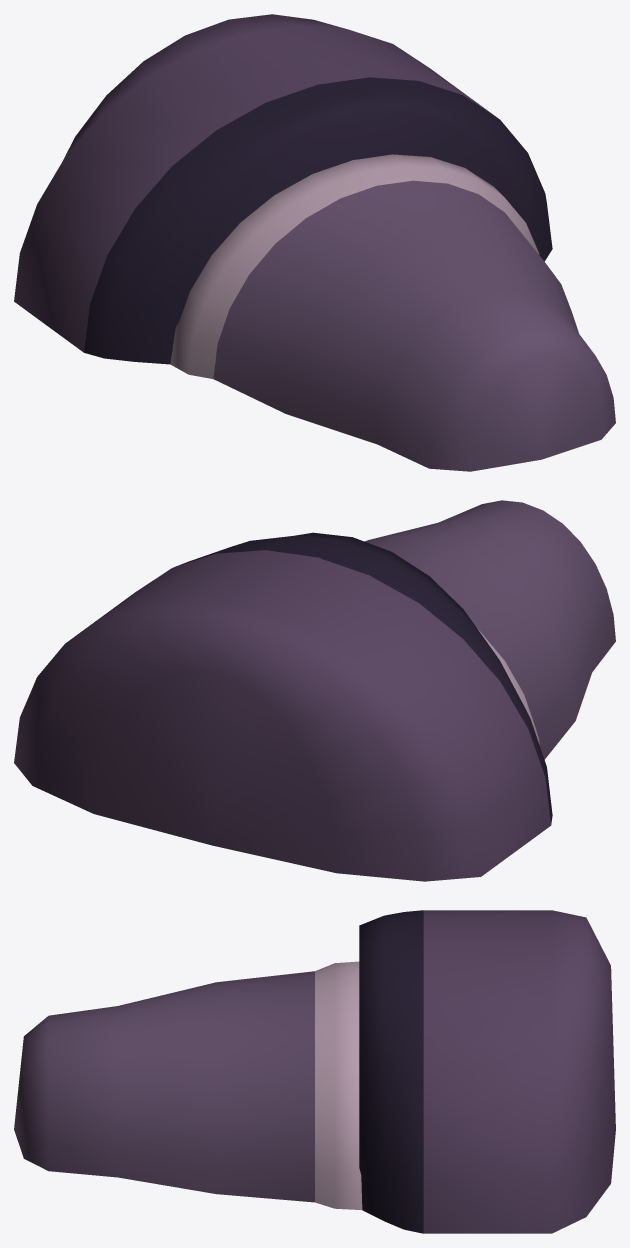
File: newshc-19.glb
3 renders of one model, top to bottom at view 1: azimuth 30°, elevation 25°; view 2: azimuth 150°, elevation 25°; view 3: azimuth 270°, elevation 25°, orthographic. The views are drawn at different scales.
Visible parts, largest first — view 1: newshc-19; view 2: newshc-19; view 3: newshc-19.
Boxes of the visible parts, x1,y1,x2,y2 form: newshc-19: [14, 14, 615, 471]; newshc-19: [14, 500, 615, 881]; newshc-19: [14, 910, 615, 1233].
Size of the model in its own units: 0.8333 by 0.36 by 1.02.
